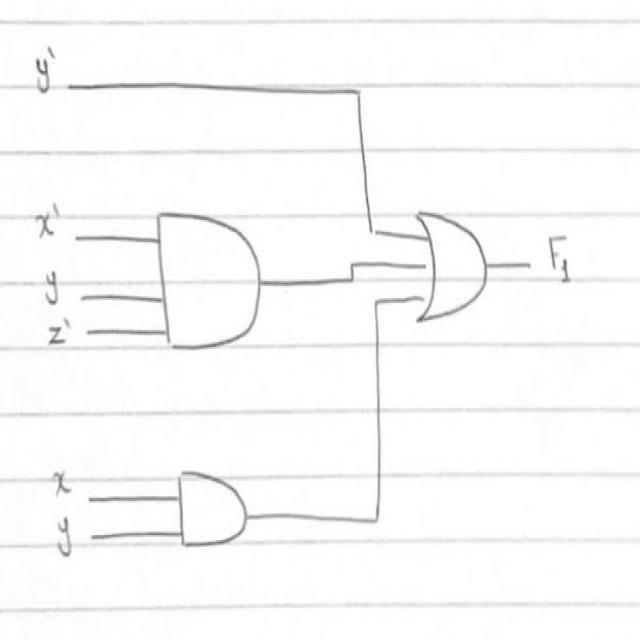AND: (145, 197, 273, 365), (171, 461, 258, 568)
OR: (408, 197, 500, 350)
